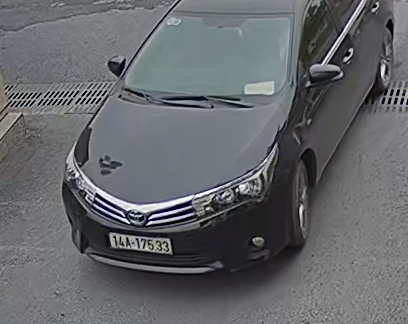vehicle plate: (105, 228, 173, 257)
